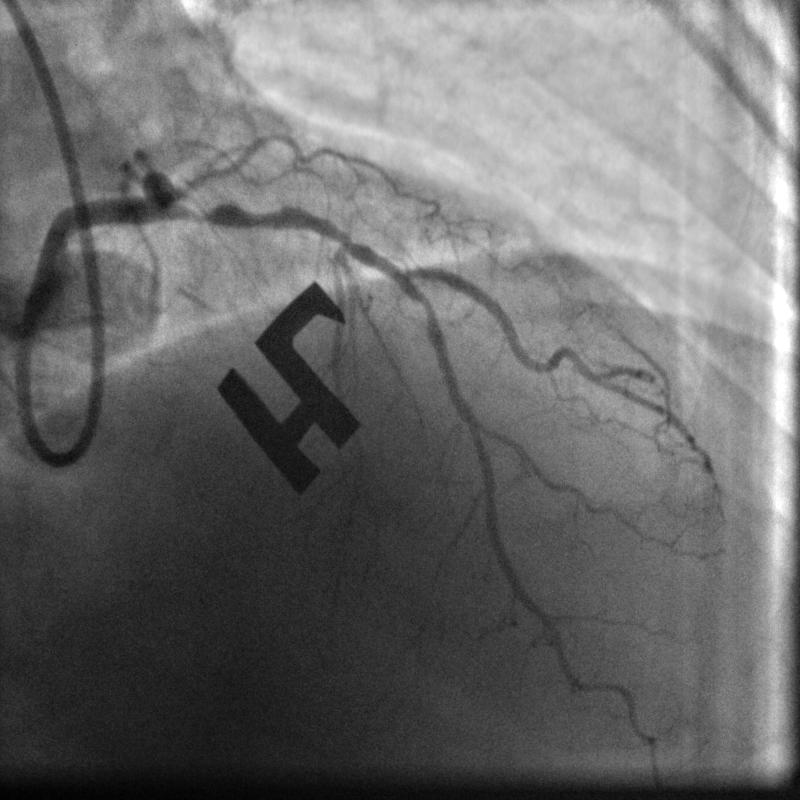Stenosis: (181, 189, 294, 228)
